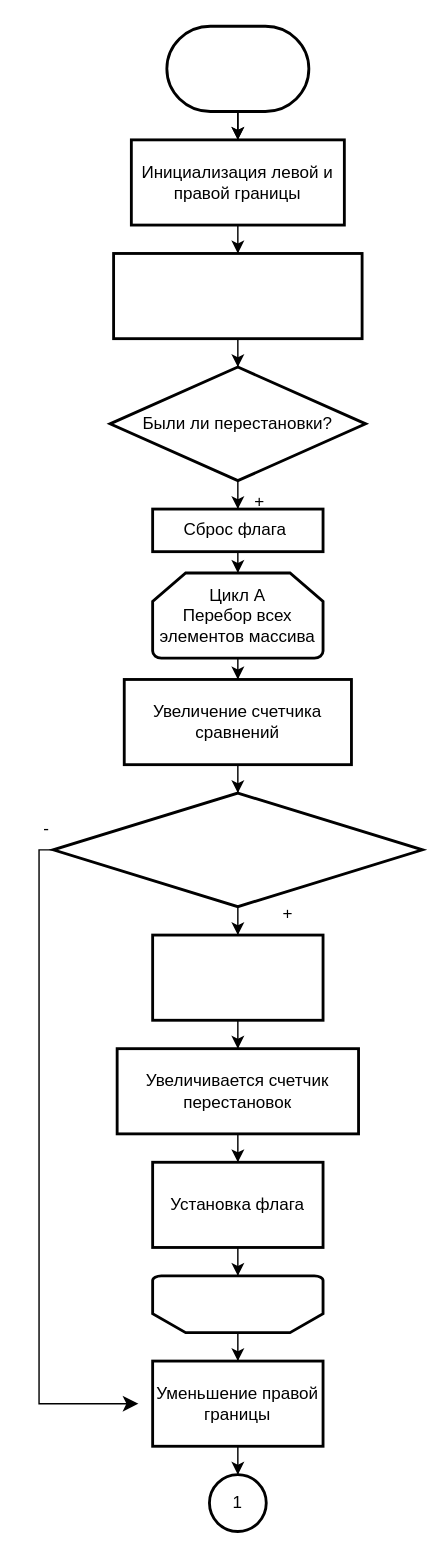
Some shapes in this 447 by 1556 pixel diagram are drawn without their labels. Each missing label, with the centre of its shape:
"Инициализация флага, указывающего на наличие перестановок" belongs at (x=237, y=295).
"Начало" belongs at (x=237, y=68).
"Обмен значений" belongs at (x=237, y=977).
"Текущий элемент больше чем следующий ?" belongs at (x=237, y=849).
"Цикл А" belongs at (x=237, y=1303).
